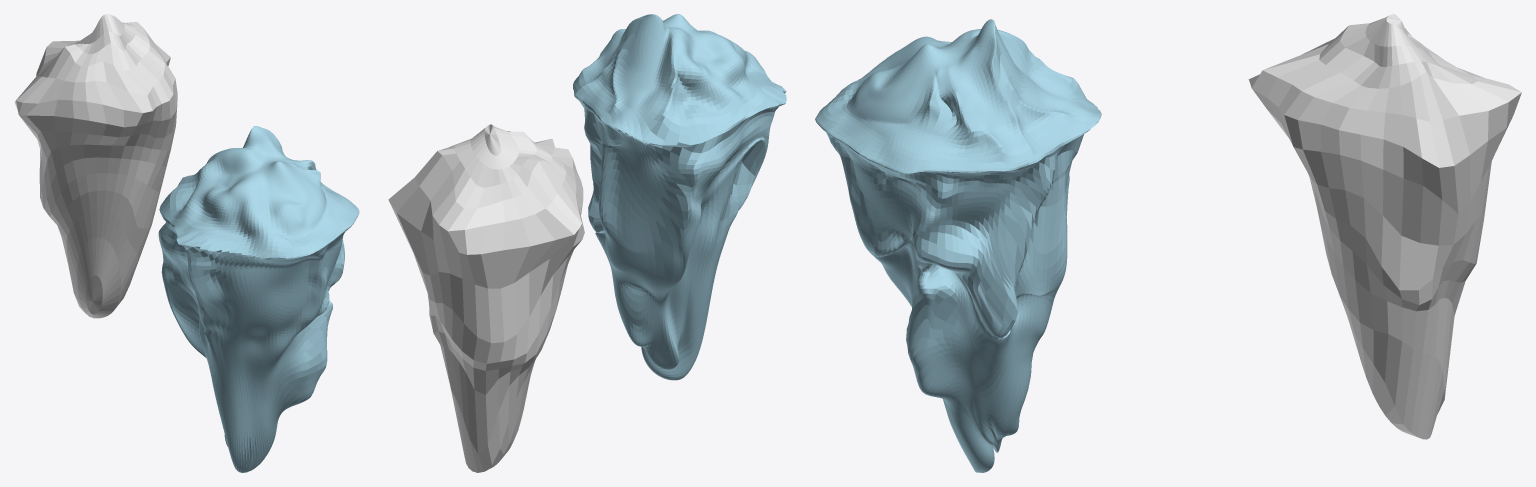
Rendered from iceberg.glb.
The picture shows the model from 3 angles, left to right: view 1: azimuth 30°, elevation 25°; view 2: azimuth 150°, elevation 25°; view 3: azimuth 270°, elevation 25°; orthographic projection. The views are drawn at different scales.
Parts seen in each view (by area): view 1: Sphere.001, Sphere; view 2: Sphere.001, Sphere; view 3: Sphere.001, Sphere.
Boxes of the visible parts, <box> form: Sphere.001: <box>158,126,359,472</box>; Sphere: <box>14,14,177,318</box>; Sphere.001: <box>573,14,786,380</box>; Sphere: <box>388,124,584,472</box>; Sphere.001: <box>815,19,1101,472</box>; Sphere: <box>1248,14,1521,439</box>.
Bounding box in the file's own units: 2.73 × 5 × 6.9.
